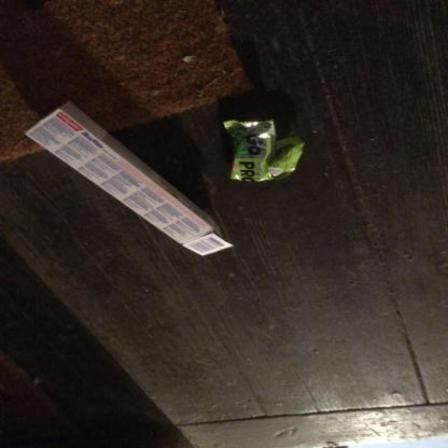Carton: (24, 102, 236, 258)
Plastic bag - wrapper: (223, 120, 306, 183)
